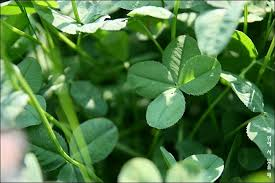4-clover: (130, 34, 222, 132)
